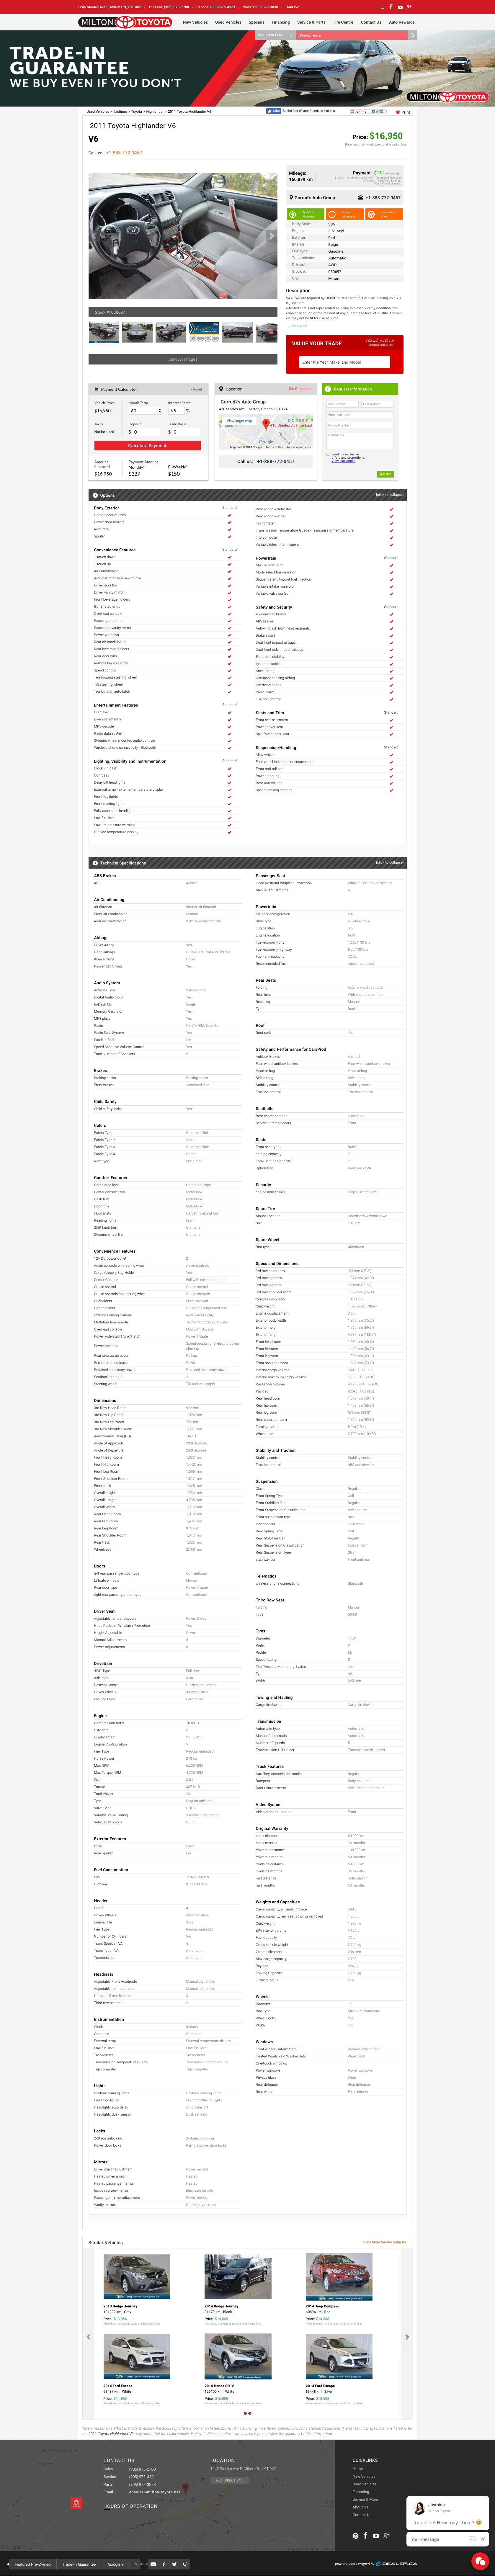car: (270, 233, 275, 240)
